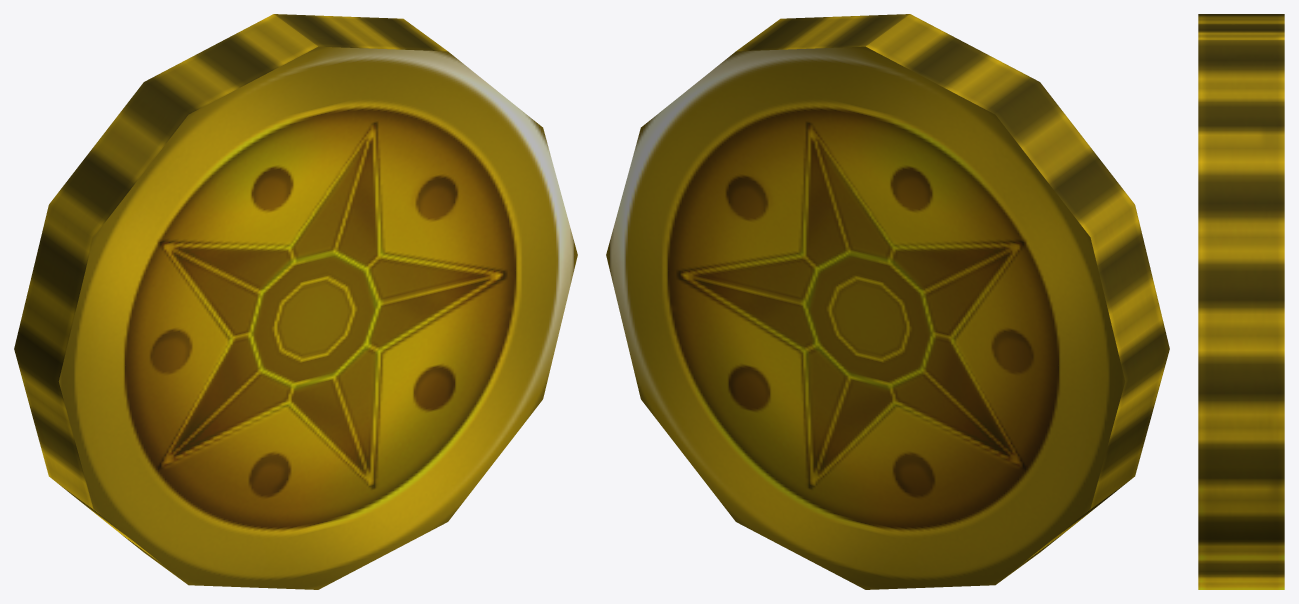
The model's file is Coin.FBX.
3 renders of one model, left to right at view 1: azimuth 30°, elevation 25°; view 2: azimuth 150°, elevation 25°; view 3: azimuth 270°, elevation 25°, orthographic. The views are drawn at different scales.
Parts seen in each view (by area): view 1: Coin; view 2: Coin; view 3: Coin.
Boxes of the visible parts, <box> form: Coin: <box>14,14,577,589</box>; Coin: <box>606,14,1169,589</box>; Coin: <box>1198,14,1284,589</box>.
Bounding box in the file's own units: 12.28 × 1.83 × 12.28.
